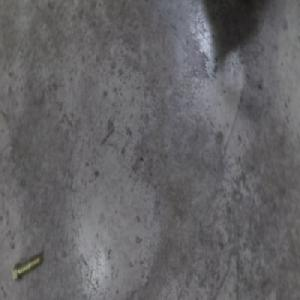Bolt: (14, 251, 43, 280)
